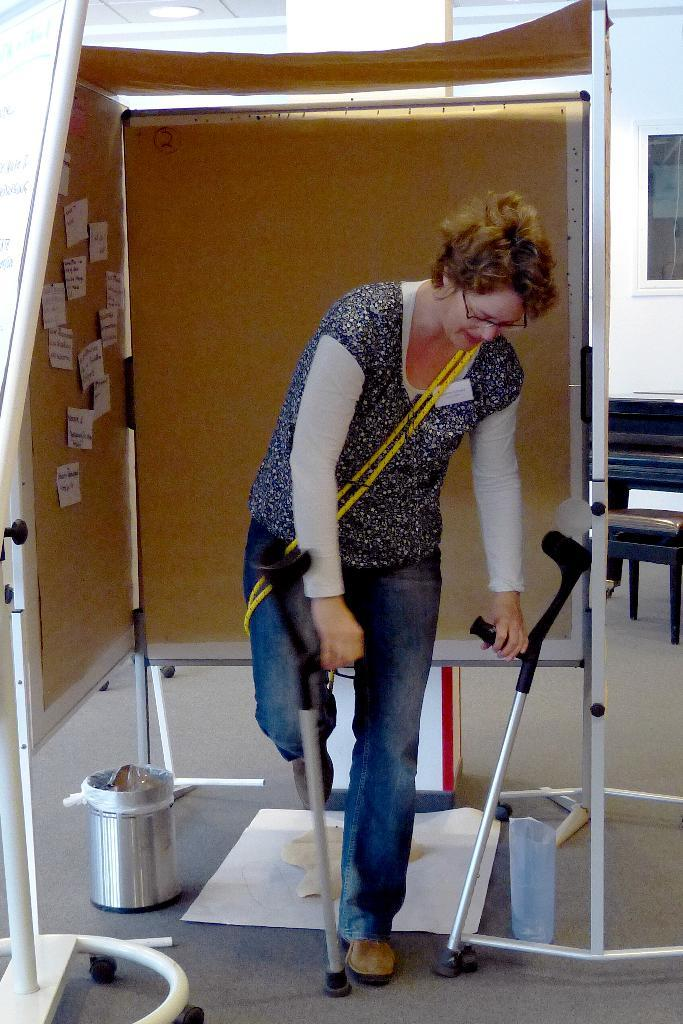crutches: (234, 184, 591, 1002)
